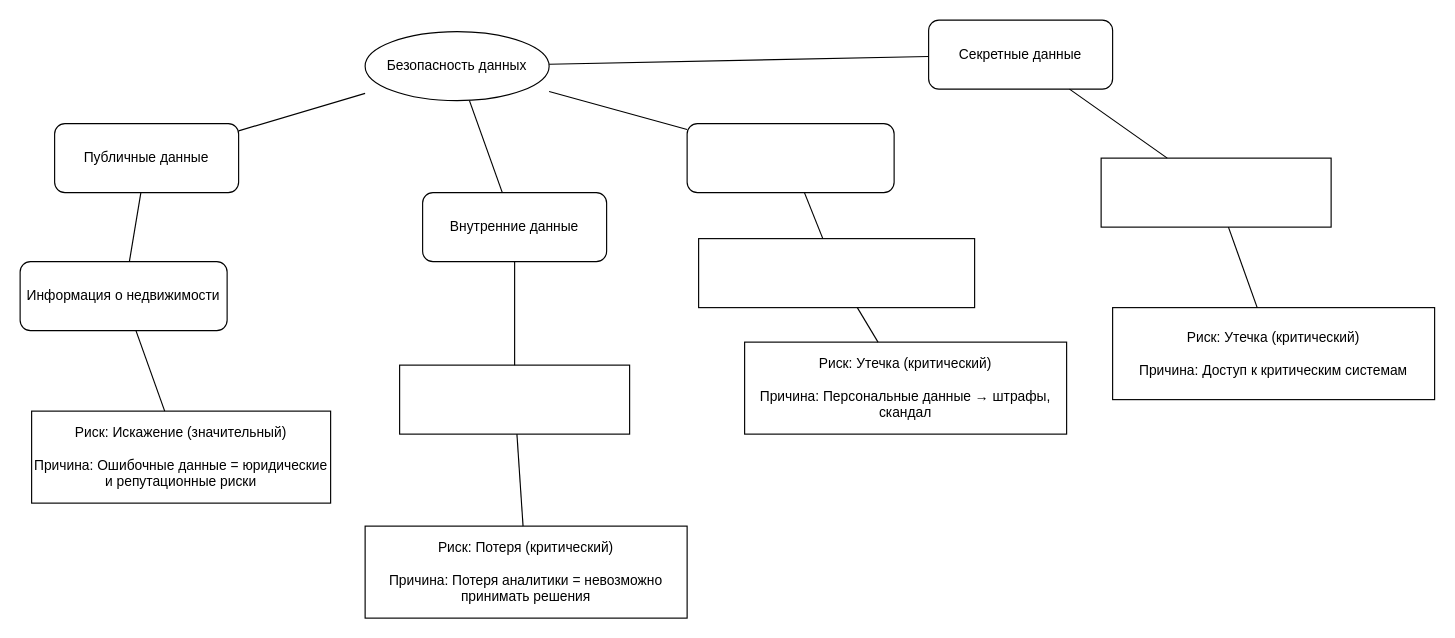
This 1455x638 diagram has some shape labels left out. Each missing label, with the centre of its shape:
"BI, ML-модели, отчётность" goes at point 514,399.
"Данные клиентов и собственников" goes at point 836,272.
"Ключи, доступы, интеграции" goes at point 1215,192.
"Конфиденциальные данные" goes at point 790,157.
